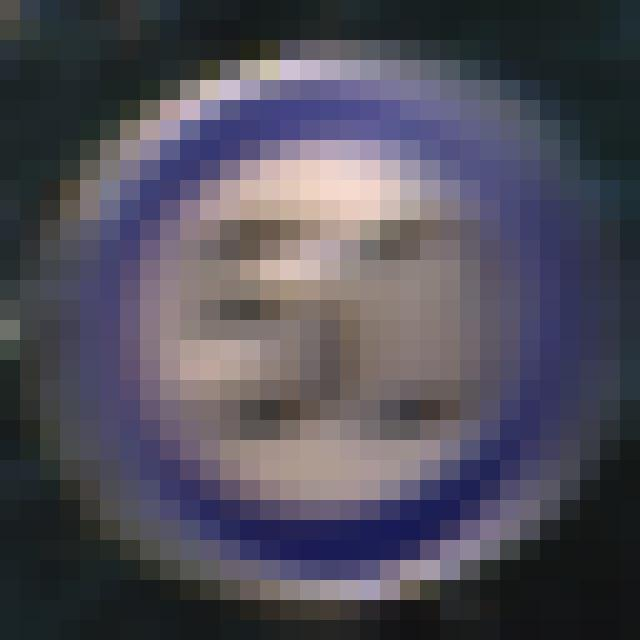SPEED LIMIT 50: (100, 120, 552, 536)
